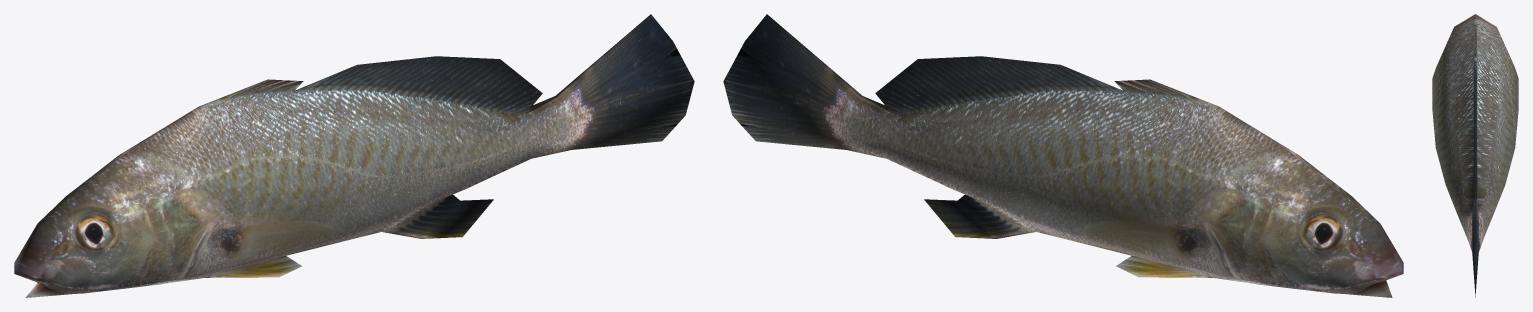
File: croaker_fbx.fbx
The picture shows the model from 3 angles, left to right: view 1: azimuth 30°, elevation 25°; view 2: azimuth 150°, elevation 25°; view 3: azimuth 270°, elevation 25°; orthographic projection. The views are drawn at different scales.
Parts seen in each view (by area): view 1: pCube5; view 2: pCube5; view 3: pCube5.
Boxes of the visible parts, bbox=[...] form: pCube5: bbox=[14, 14, 694, 297]; pCube5: bbox=[723, 14, 1403, 297]; pCube5: bbox=[1432, 14, 1518, 297].
Bounding box in the file's own units: 37.19 × 10.72 × 5.47.
